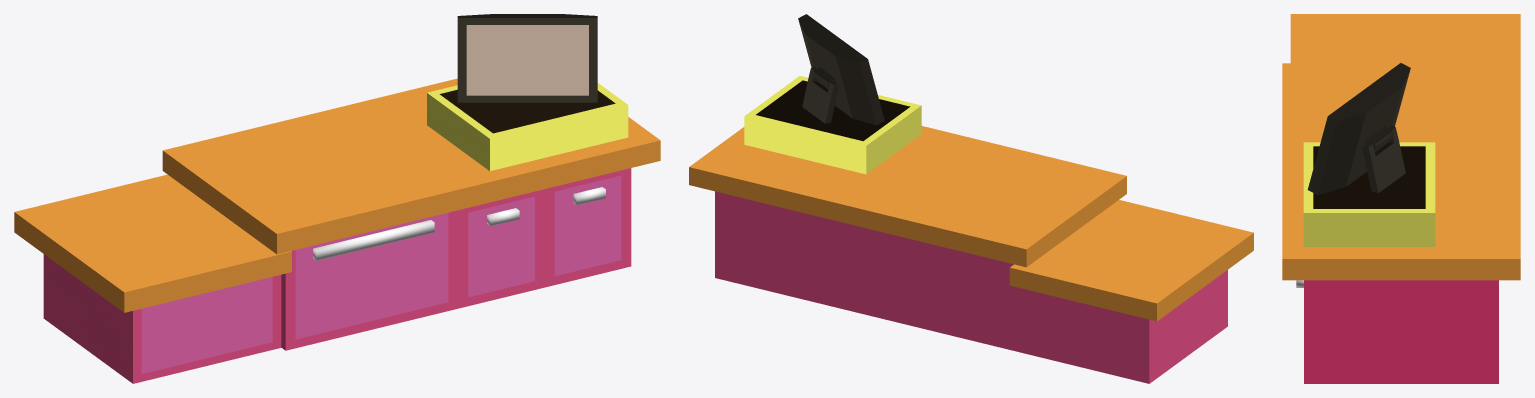
The model's file is CounterTable.fbx.
3 views of the same model, side by side, from view 1: azimuth 30°, elevation 25°; view 2: azimuth 150°, elevation 25°; view 3: azimuth 270°, elevation 25° (orthographic). The views are drawn at different scales.
Visible parts, largest first — view 1: CounterTable; view 2: CounterTable; view 3: CounterTable.
Part boxes in pixels (left/top/right/bottom): CounterTable: left=14, top=14, right=660, bottom=383; CounterTable: left=689, top=14, right=1253, bottom=383; CounterTable: left=1282, top=14, right=1520, bottom=383.
Size of the model in its own units: 169 by 74.47 by 62.79.
